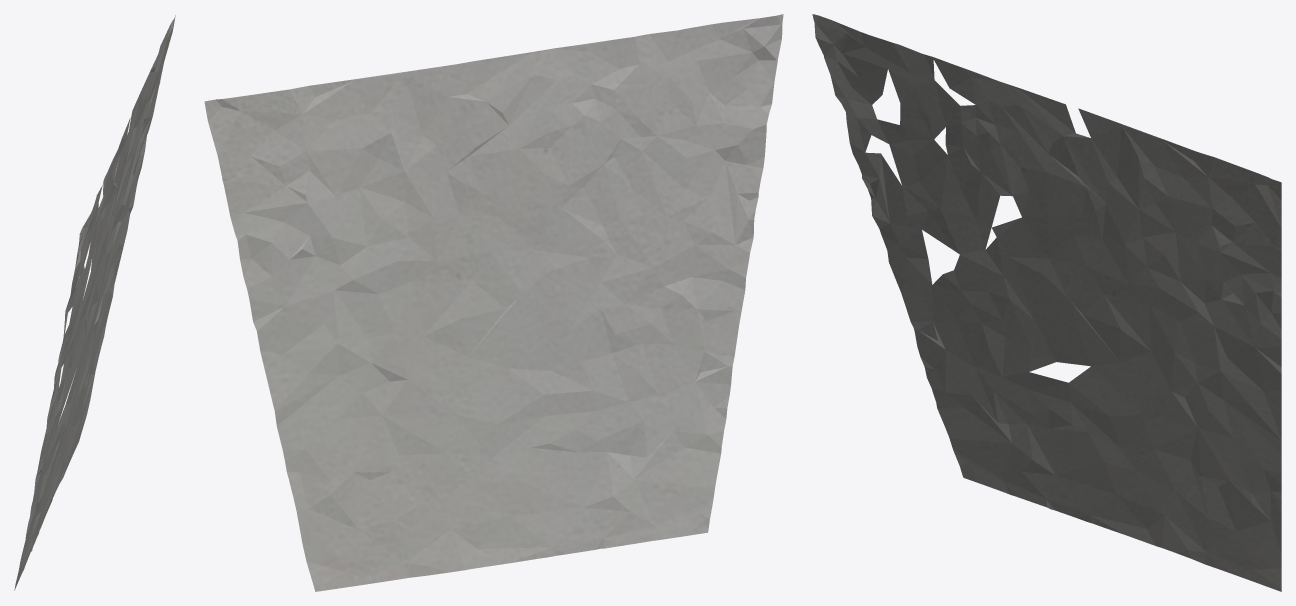
3 renders of one model, left to right at view 1: azimuth 30°, elevation 25°; view 2: azimuth 150°, elevation 25°; view 3: azimuth 270°, elevation 25°, orthographic. The views are drawn at different scales.
Size of the model in its own units: 0.6517 by 0.8374 by 0.7676.
3 materials, 3 textured.
